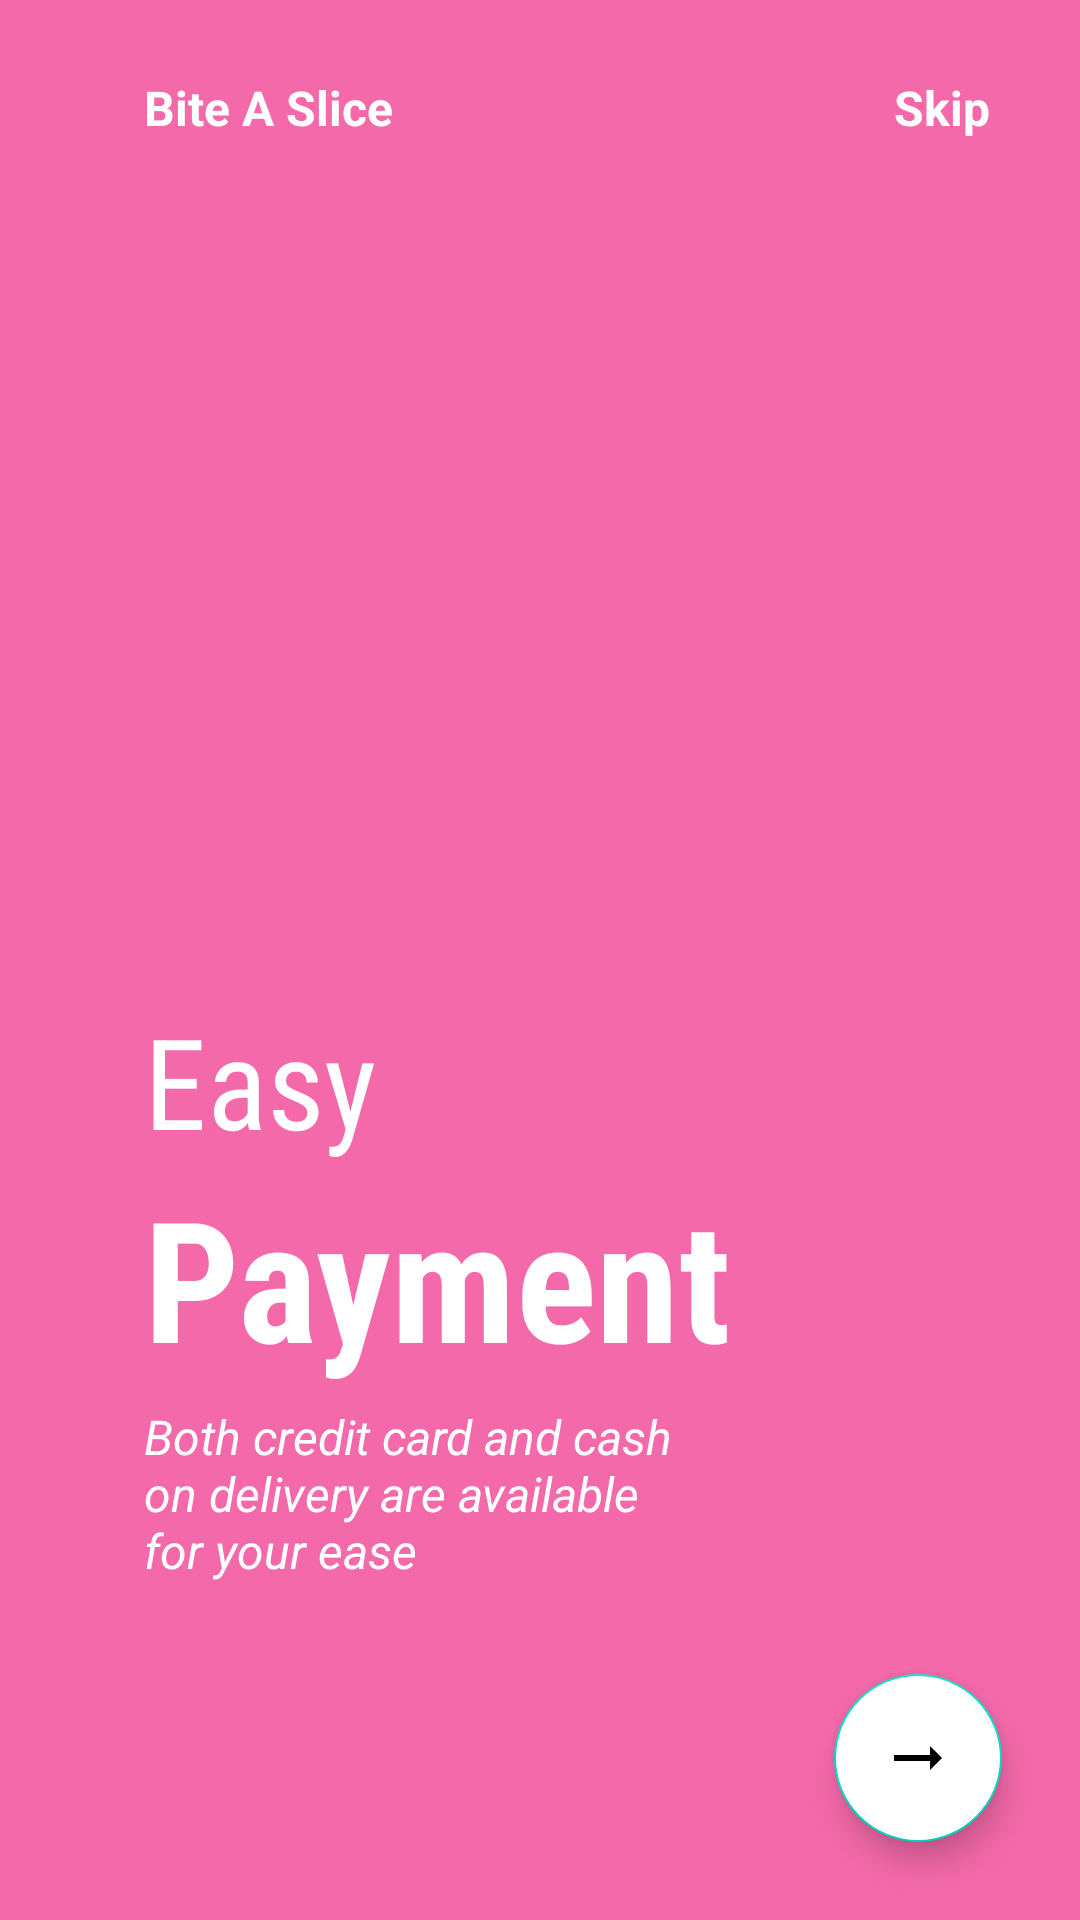

Named icons in this screenshot (1080×1920) and their centers, point (x, y):
arrow right: point (918, 1758)
